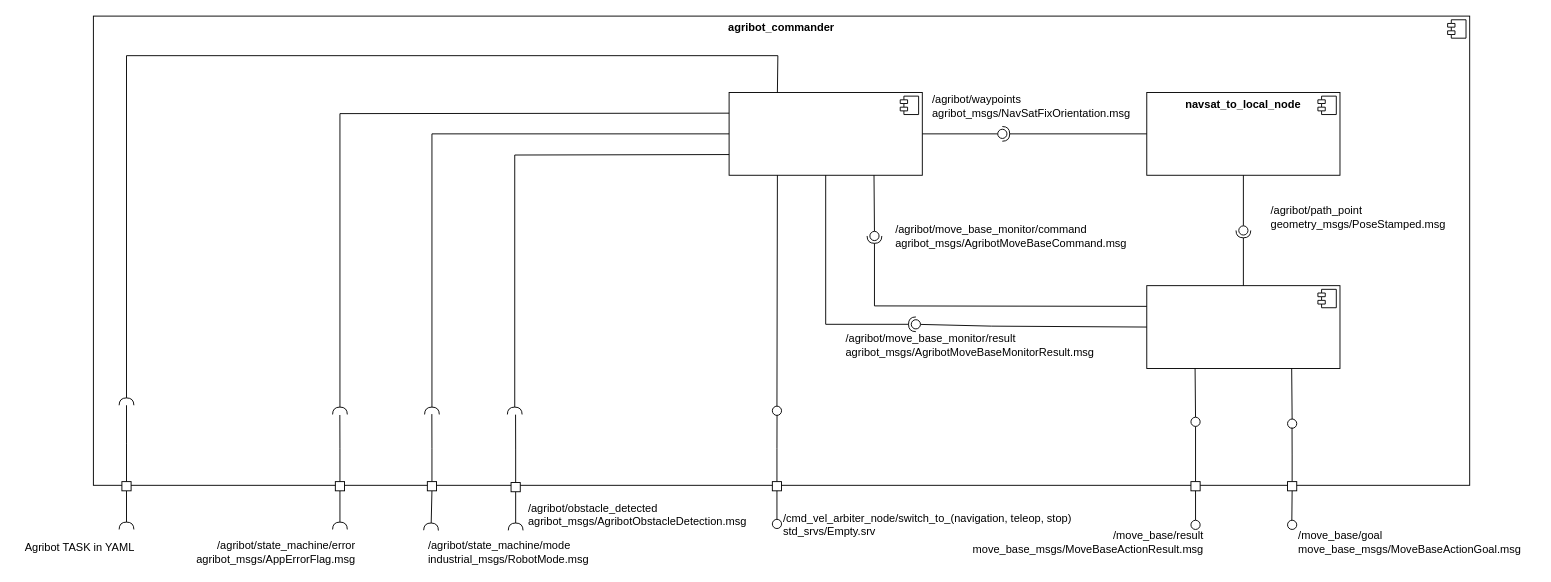
Image size: 1551x582. Some labels were removed from this diagram. The box of each missing label's shape, as (x1, y1, x2, y2) in pixels:
agribot_commander_state_machine: (728, 92, 922, 175)
move_base_monitor_node: (1146, 285, 1340, 368)
